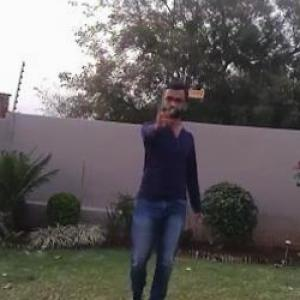takeoff-hand: (142, 90, 178, 133)
